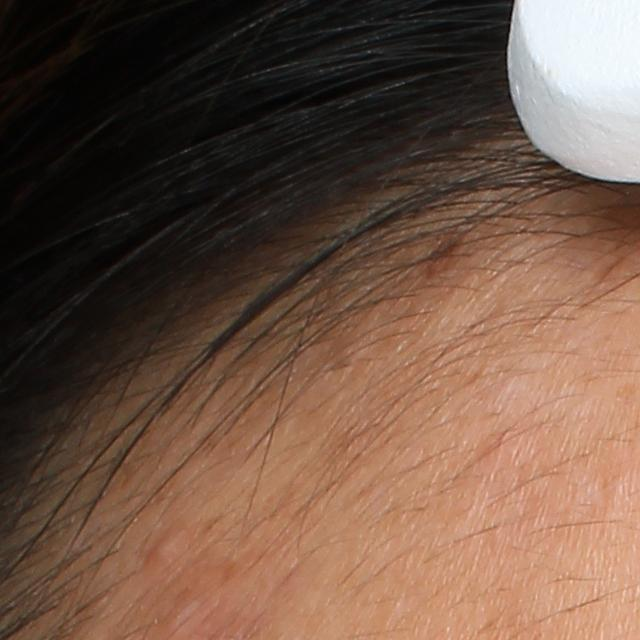papule: (150, 535, 181, 569)
